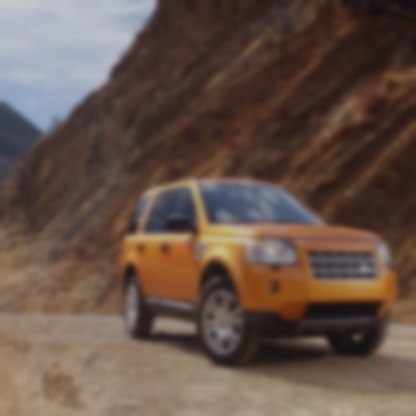Vehicle: (118, 176, 400, 372)
